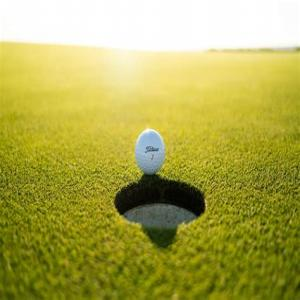Golf: (136, 128, 166, 175)
